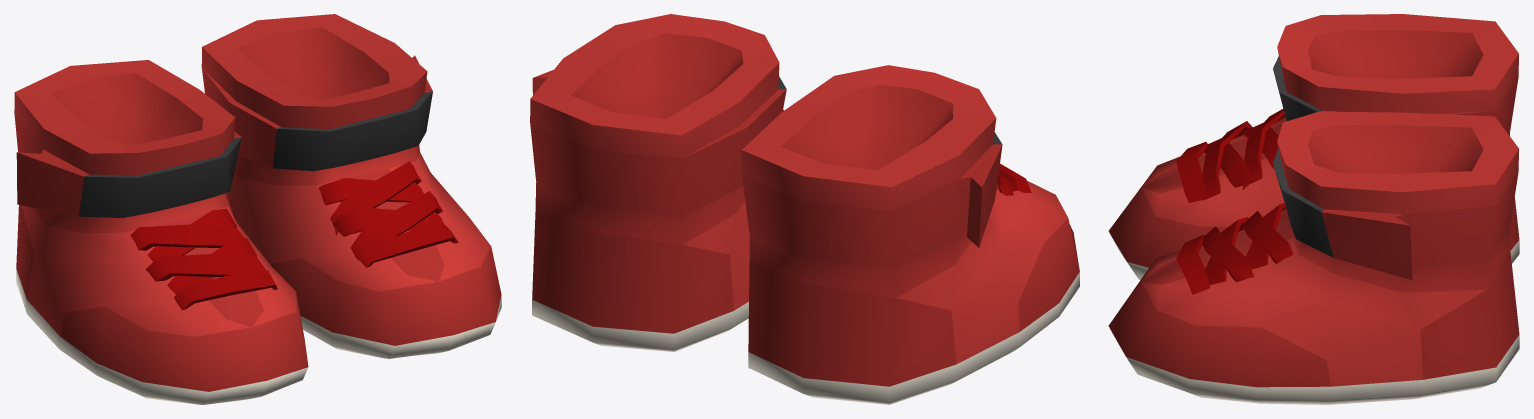
File: Shoes_41.fbx
3 views of the same model, side by side, from view 1: azimuth 30°, elevation 25°; view 2: azimuth 150°, elevation 25°; view 3: azimuth 270°, elevation 25° (orthographic). The views are drawn at different scales.
Visible parts, largest first — view 1: Shoes_41; view 2: Shoes_41; view 3: Shoes_41.
Boxes of the visible parts, <box> form: Shoes_41: <box>14,14,501,404</box>; Shoes_41: <box>530,14,1079,404</box>; Shoes_41: <box>1108,14,1519,404</box>.
Bounding box in the file's own units: 43.28 × 21.66 × 37.16.
